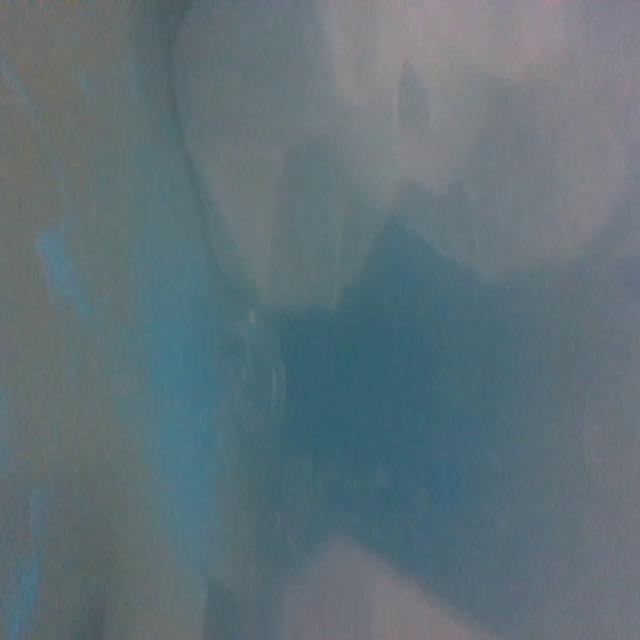plastic bags: (171, 3, 640, 305)
